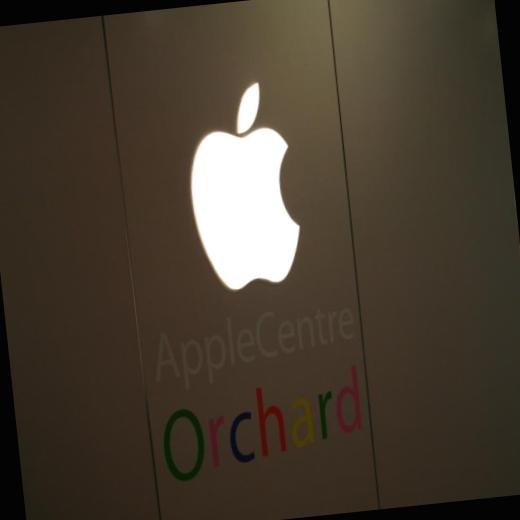Apple: (178, 76, 310, 293)
